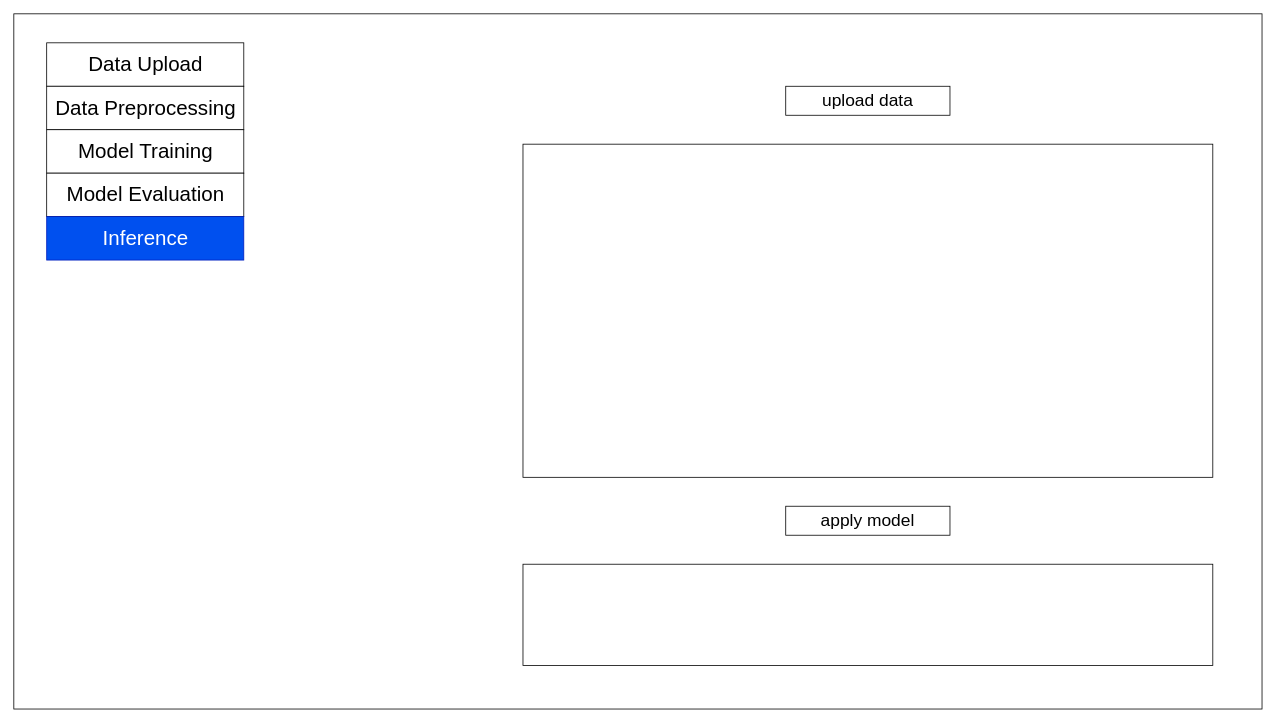
Some shapes in this 1276 by 723 pixel diagram are drawn without their labels. The box of each missing label's shape, as (x1, y1, x2, y2) in pixels:
Data Preview: (522, 143, 1213, 477)
Result: (522, 563, 1213, 666)
